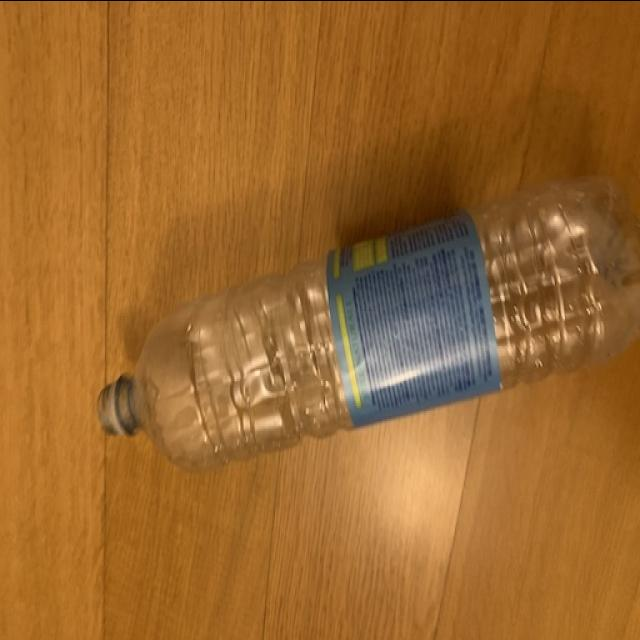PET: (94, 168, 640, 472)
